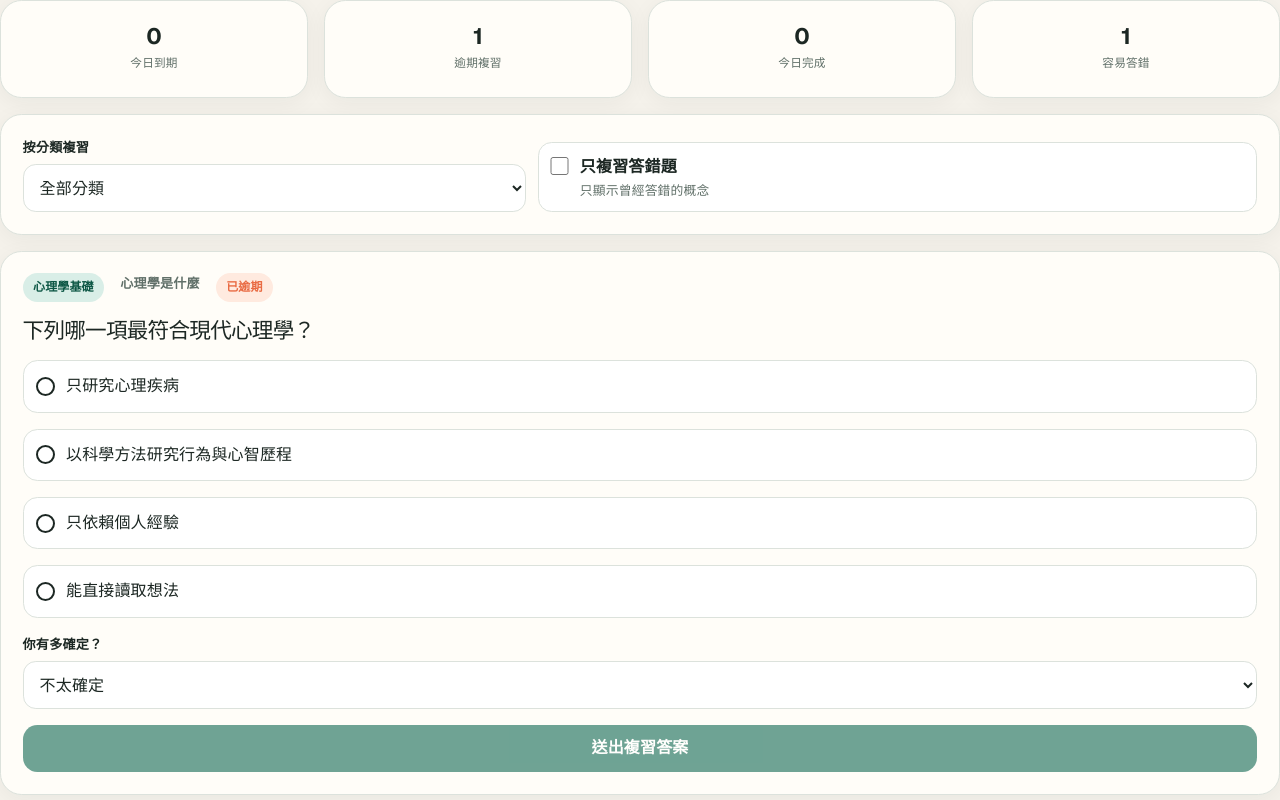
Test case: ReviewCenter › completes a due concept and persists an attempt
Expected: the heading "下列哪一項最符合現代心理學？" is shown, [23,316,314,344]
Click the button "以科學方法研究行為與心智歷程": click(179, 454) [23,429,1257,481]
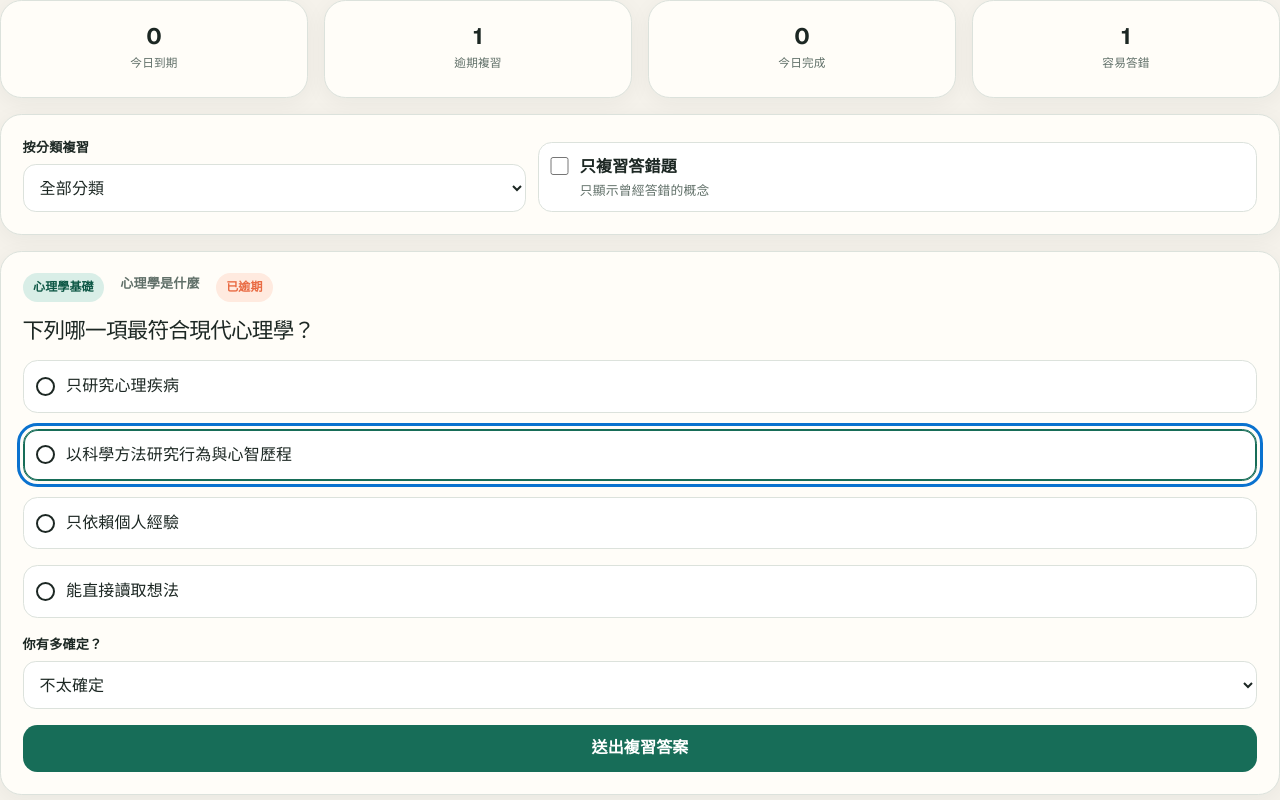
Select "確定" in the dropdown labelled "你有多確定？": (640, 685) [23,661,1257,709]
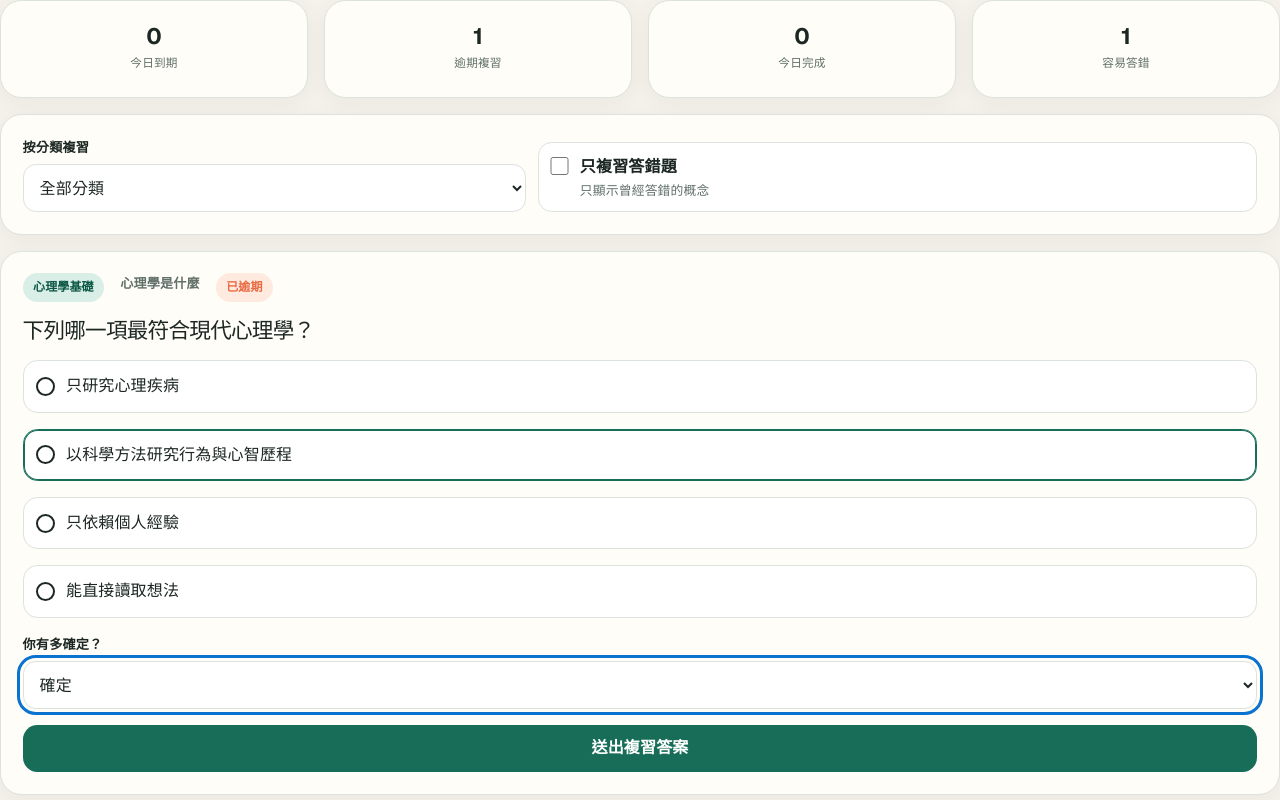
Click the button "送出複習答案": click(640, 749) [23,725,1257,772]
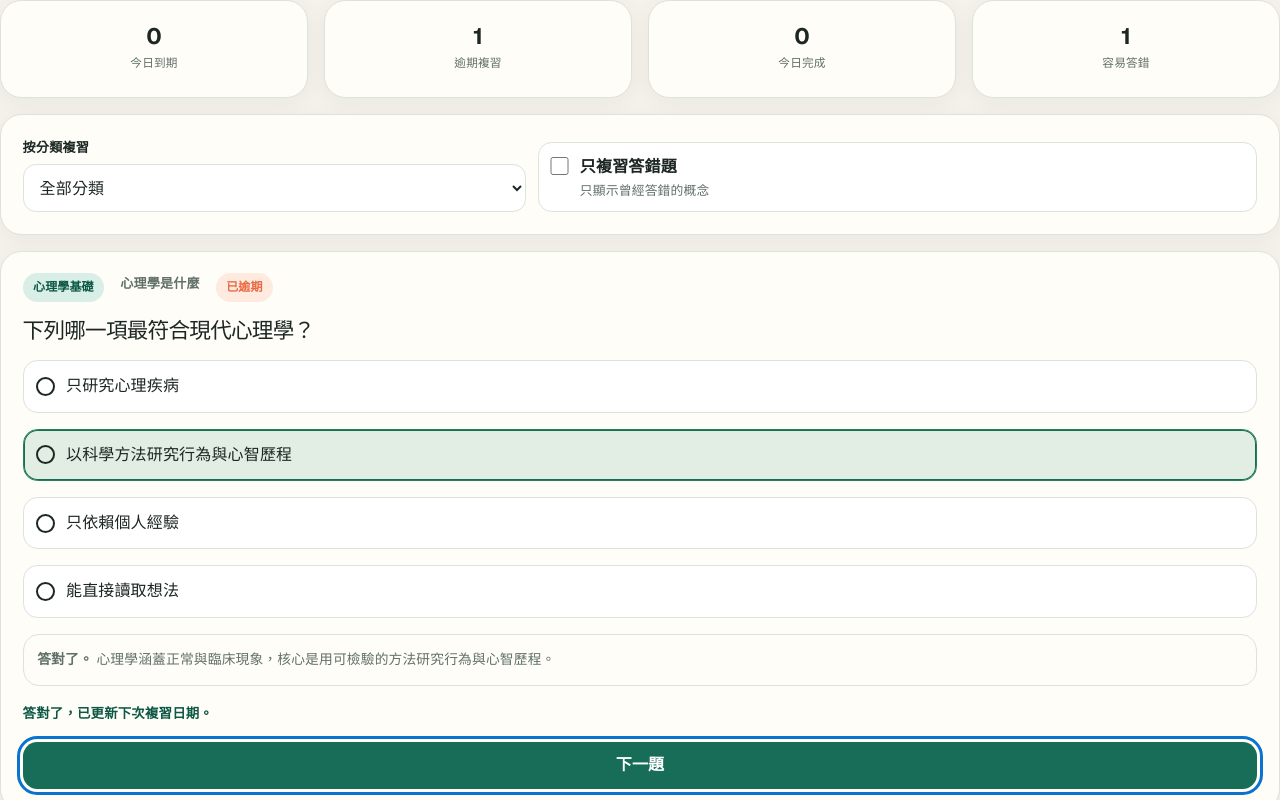
Expected: the text "答對了，已更新下次複習日期。" is shown, [23,704,213,722]
